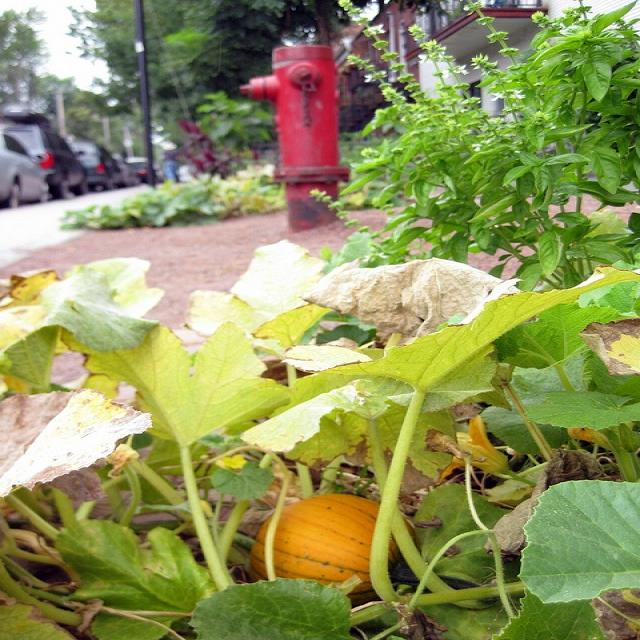car: (0, 108, 88, 196), (0, 134, 52, 207), (70, 141, 122, 189), (121, 154, 163, 182), (110, 152, 134, 184)
fire_hydrant: (234, 39, 350, 230)
